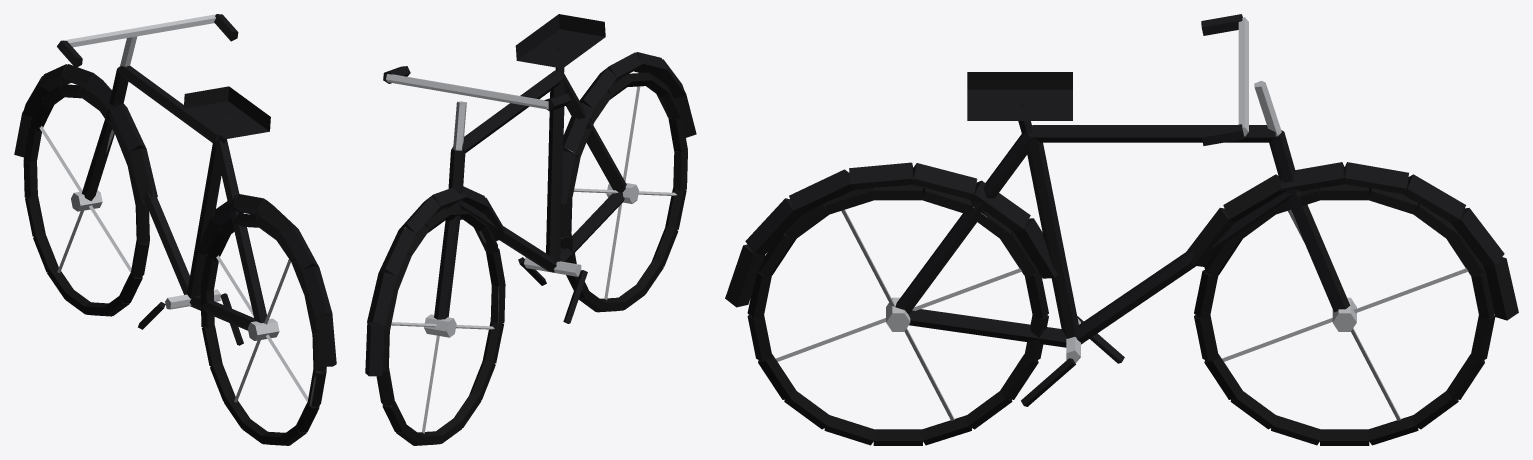
File: kolo_4cf7c94b.glb
3 renders of one model, left to right at view 1: azimuth 30°, elevation 25°; view 2: azimuth 150°, elevation 25°; view 3: azimuth 270°, elevation 25°, orthographic. The views are drawn at different scales.
Parts seen in each view (by area): view 1: dum; view 2: dum; view 3: dum.
Boxes of the visible parts, x1,y1,x2,y2 form: dum: (14, 14, 336, 445); dum: (365, 14, 696, 445); dum: (725, 14, 1518, 445).
Size of the model in its own units: 0.5947 by 1.07 by 1.95.
1 material, 1 textured.
